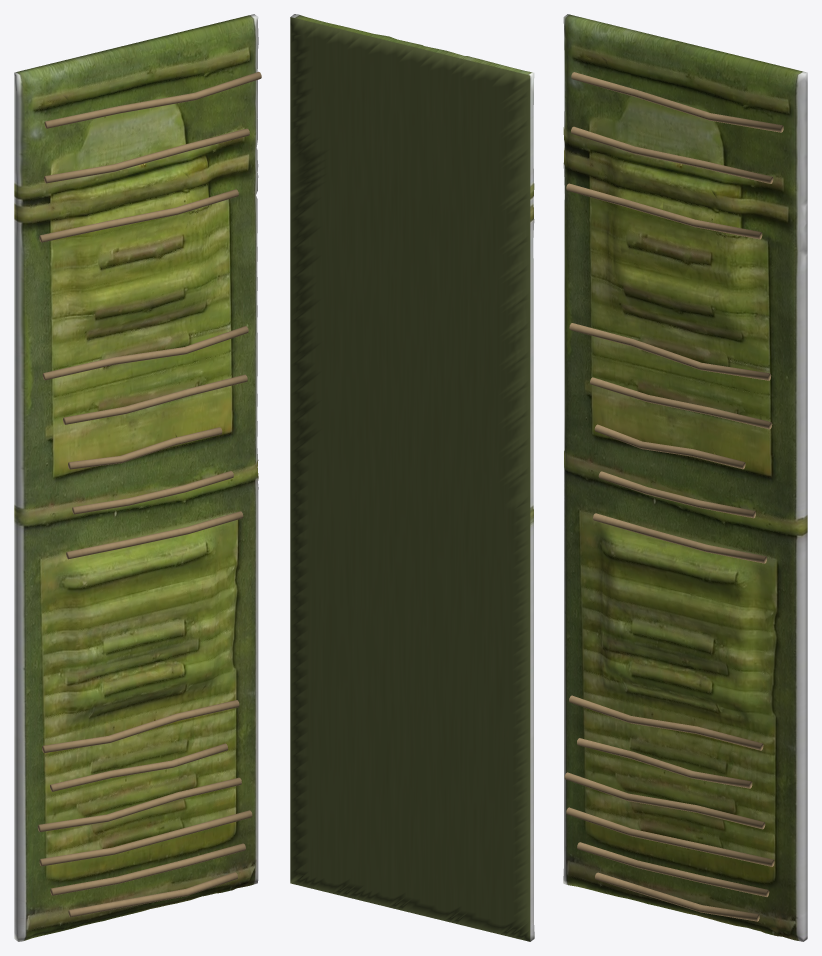
The model's file is escultura-esc-028.glb.
3 renders of one model, left to right at view 1: azimuth 30°, elevation 25°; view 2: azimuth 150°, elevation 25°; view 3: azimuth 330°, elevation 25°, orthographic.
Visible parts, largest first — view 1: world; view 2: world; view 3: world.
Part boxes in pixels (x1,y1,x2,y2): world: (14, 14, 261, 941); world: (290, 14, 534, 941); world: (563, 14, 807, 941).
Size of the model in its own units: 0.377 by 1.3 by 0.0574.
1 material, 1 textured.
